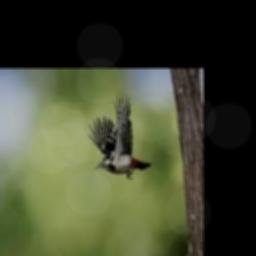Woodpecker: (86, 89, 150, 179)
